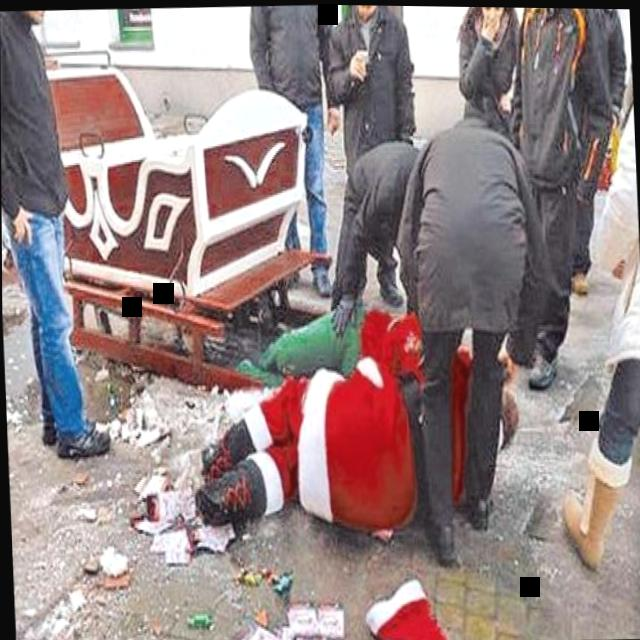Fall-Detected: (182, 284, 473, 551)
